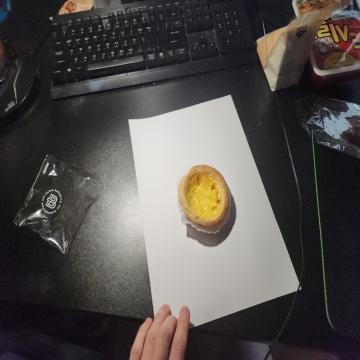EggTart: (178, 163, 230, 229)
